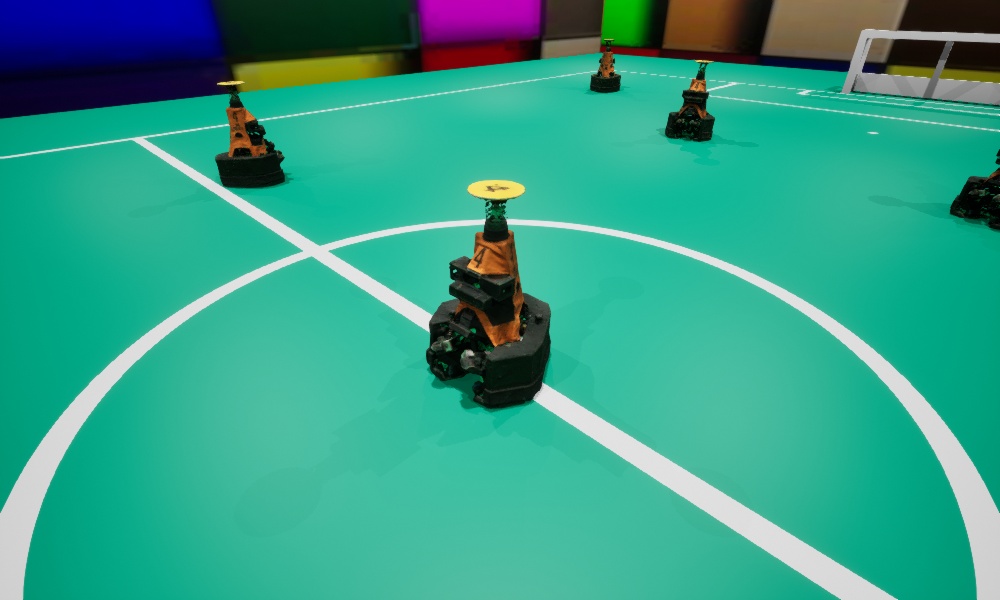o: (426, 180, 550, 407), (215, 81, 284, 187), (665, 60, 714, 140), (950, 149, 999, 228), (590, 39, 620, 92)
